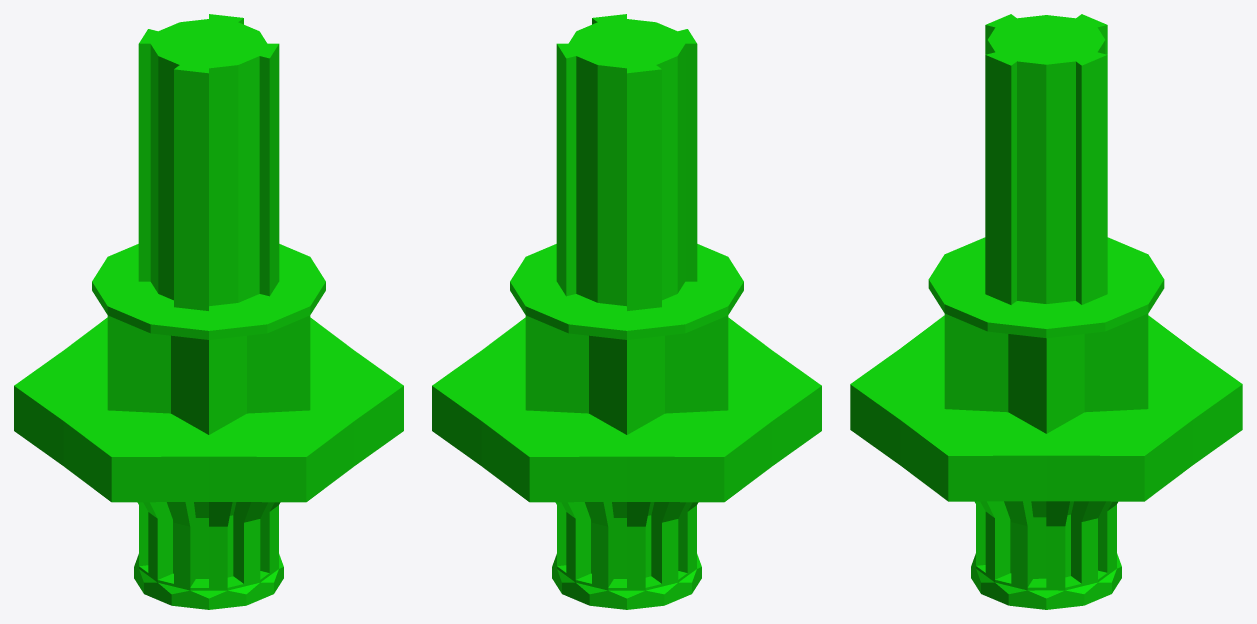
File: 4Bit.fbx
3 renders of one model, left to right at view 1: azimuth 30°, elevation 25°; view 2: azimuth 150°, elevation 25°; view 3: azimuth 270°, elevation 25°, orthographic.
Parts seen in each view (by area): view 1: 4Bit; view 2: 4Bit; view 3: 4Bit.
Part boxes in pixels (x1,y1,x2,y2): 4Bit: (14,14,403,609); 4Bit: (432,14,821,609); 4Bit: (850,14,1242,609).
Bounding box in the file's own units: 135 × 250 × 156.
